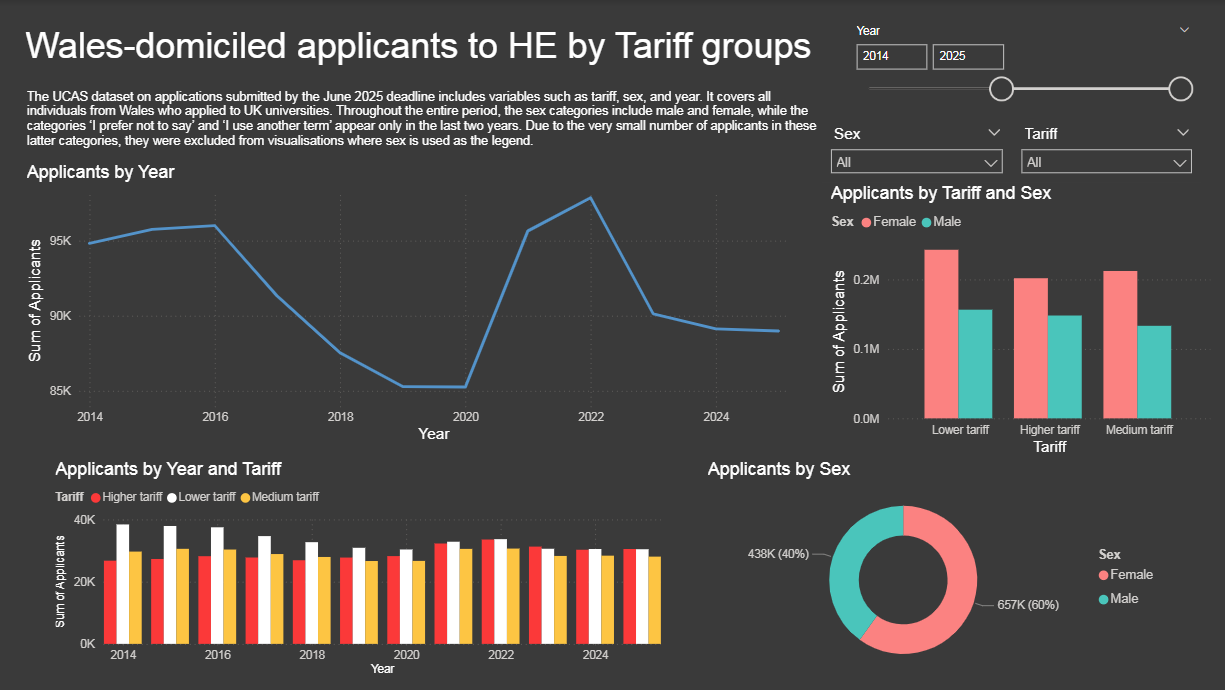

The dashboard page shown, as its layout file describes it:
{"tool":"powerbi","page":{"name":"Page 4","canvas":[1280,720],"ordinal":3},"visuals":[{"type":"lineChart","title":"Applicants by Year","fields":{"Category":["Tariff difference.Year"],"Y":["Sum(Tariff difference.Value)"]},"box":[24.6,168.2,806.9,296.7],"z":0},{"type":"clusteredColumnChart","title":"Applicants by Year and Tariff","fields":{"Category":["Tariff difference.Year"],"Y":["Sum(Tariff difference.Applicants)"],"Series":["Tariff difference.Tariff"]},"box":[54.1,478.8,641,230.6],"z":1000},{"type":"donutChart","title":"Applicants by Sex","fields":{"Category":["Tariff difference.sex"],"Y":["Sum(Tariff difference.Value)"]},"box":[734.9,478.8,483.5,230.6],"z":2000},{"type":"clusteredColumnChart","title":"Applicants by Tariff and Sex","fields":{"Category":["Tariff difference.Attribute"],"Y":["Sum(Tariff difference.Value)"],"Series":["Tariff difference.sex"]},"box":[862.1,190.9,405.6,287.9],"z":3000},{"type":"slicer","fields":{"Values":["Tariff difference.Attribute"]},"box":[1056.2,125.7,197.2,65.2],"z":4000},{"type":"slicer","fields":{"Values":["Tariff difference.sex"]},"box":[857.3,125.7,198.8,65.2],"z":5000},{"type":"slicer","fields":{"Values":["Tariff difference.Year"]},"box":[881.2,20.7,372.2,105],"z":6000},{"type":"textbox","box":[23.9,20.7,849.4,66.8],"z":7000},{"type":"textbox","box":[24.6,86.9,833.4,77.5],"z":8000}]}

Visuals, with their boxes in screenshot pixels (x1, y1, x2, y2), scaled from the page's 1280x720 canvas onto the 1225x690 screenshot:
"Applicants by Year" lineChart: (left=24, top=161, right=796, bottom=446)
"Applicants by Year and Tariff" clusteredColumnChart: (left=52, top=459, right=665, bottom=680)
"Applicants by Sex" donutChart: (left=703, top=459, right=1166, bottom=680)
"Applicants by Tariff and Sex" clusteredColumnChart: (left=825, top=183, right=1213, bottom=459)
slicer - Tariff difference.Attribute: (left=1011, top=120, right=1200, bottom=183)
slicer - Tariff difference.sex: (left=820, top=120, right=1011, bottom=183)
slicer - Tariff difference.Year: (left=843, top=20, right=1200, bottom=120)
textbox: (left=23, top=20, right=836, bottom=84)
textbox: (left=24, top=83, right=821, bottom=158)
